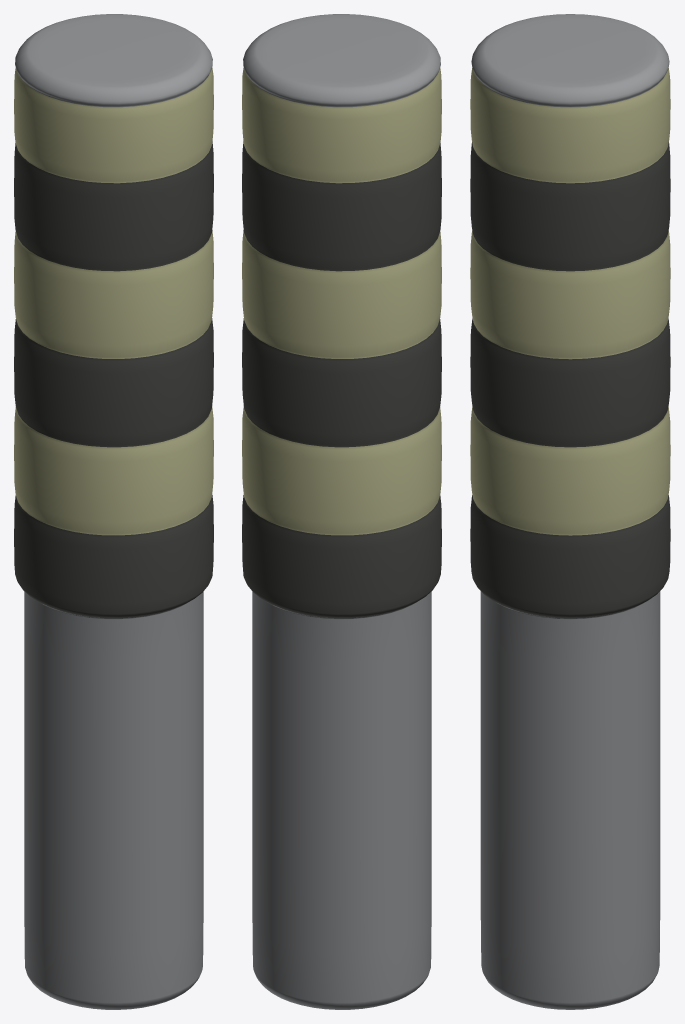
Rendered from Columna.fbx.
3 views of the same model, side by side, from view 1: azimuth 30°, elevation 25°; view 2: azimuth 150°, elevation 25°; view 3: azimuth 270°, elevation 25° (orthographic).
Visible parts, largest first — view 1: Columna; view 2: Columna; view 3: Columna.
Boxes of the visible parts, x1=… form: Columna: x1=14, y1=14, x2=213, y2=1009; Columna: x1=242, y1=14, x2=441, y2=1009; Columna: x1=470, y1=14, x2=670, y2=1009.
Size of the model in its own units: 1.98 by 10.11 by 1.98.
